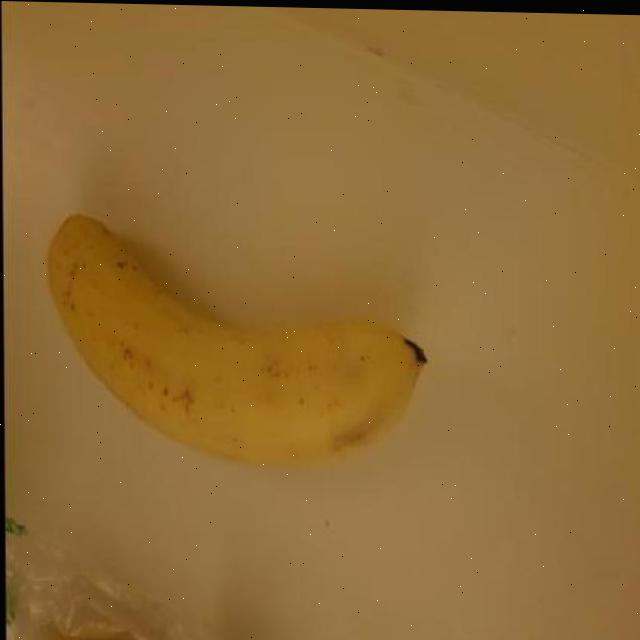banana: (35, 205, 427, 473)
